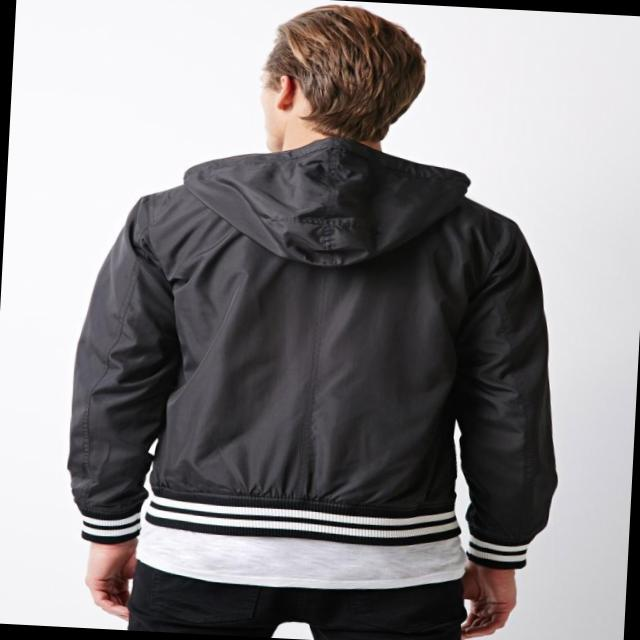Jacket: (47, 139, 586, 566)
